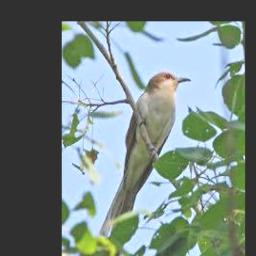Cuckoo: (100, 71, 191, 256)
